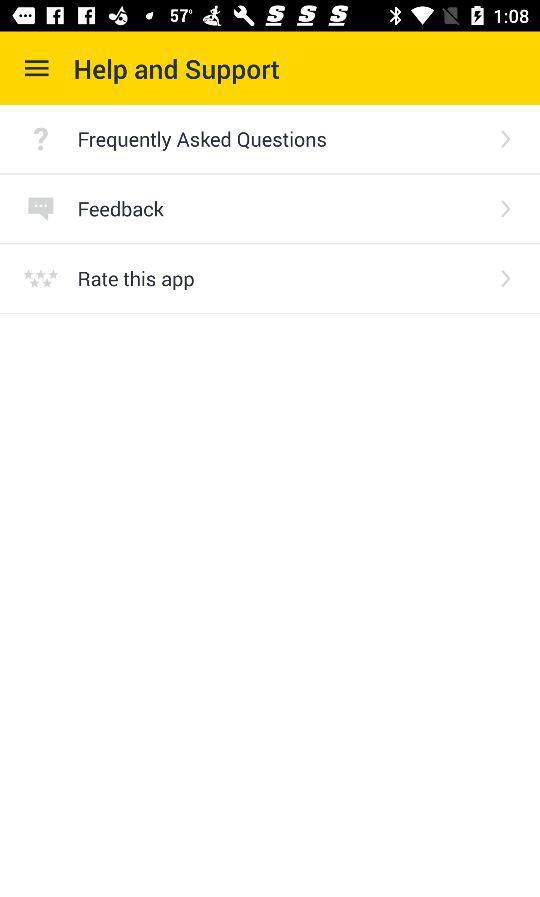Icon: (28, 197, 55, 222), (26, 60, 51, 78), (34, 127, 50, 152), (501, 200, 512, 218), (500, 271, 511, 288), (501, 131, 511, 149)
Image: (24, 269, 59, 289)
Text: (79, 131, 327, 153), (75, 60, 280, 86), (79, 270, 195, 291), (79, 201, 164, 218)
Toolbar: (1, 33, 540, 107)
UpperTaskBar: (1, 1, 540, 33)
